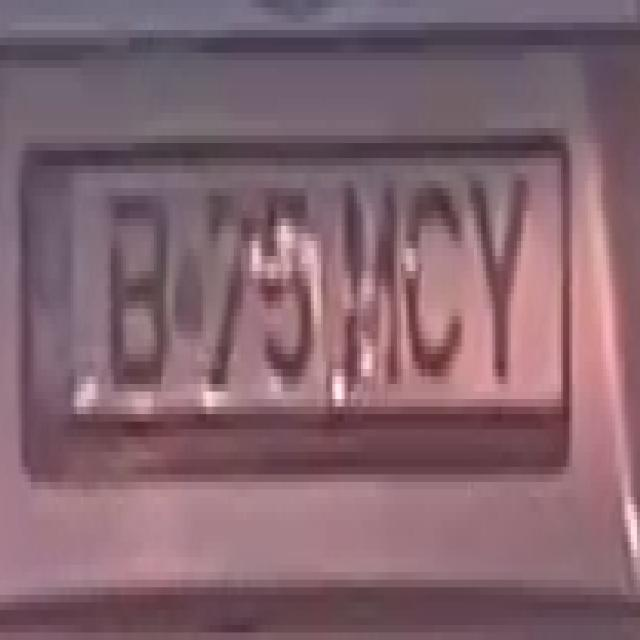Autre: (27, 164, 570, 471)
